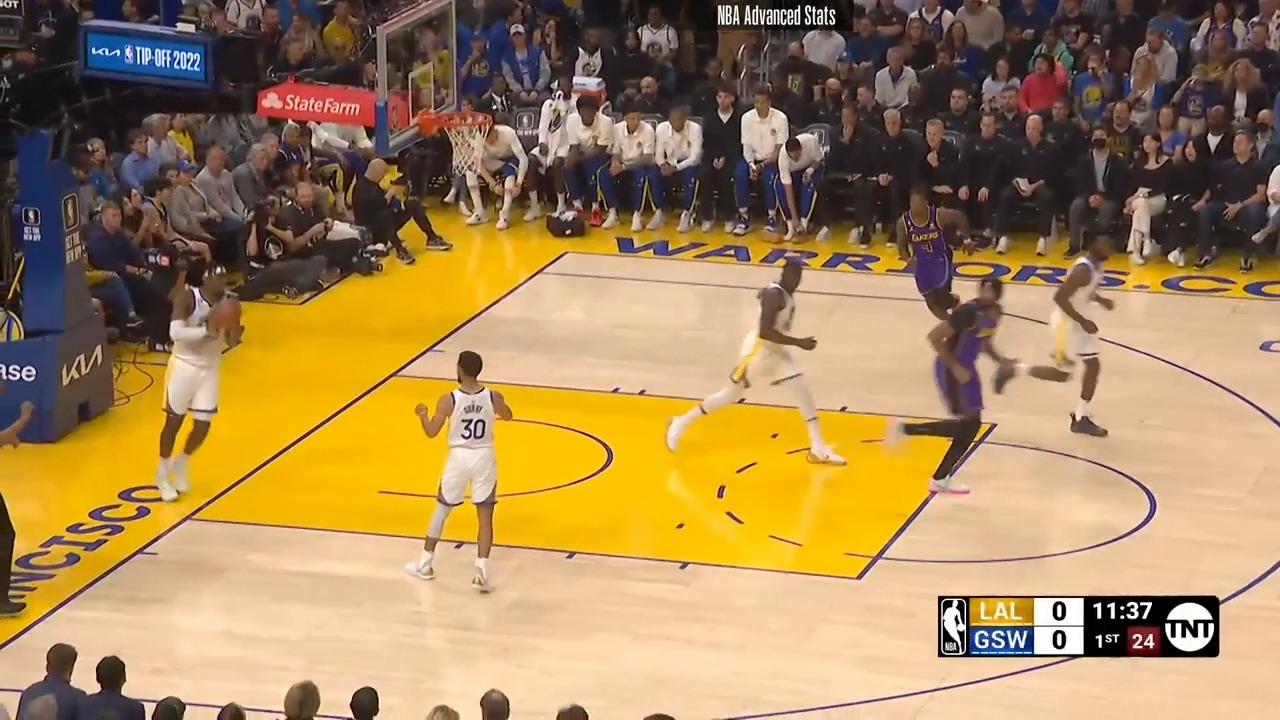net: (419, 104, 495, 168)
player: (663, 261, 833, 472), (401, 343, 515, 592), (904, 277, 1021, 504), (150, 262, 252, 514), (1012, 228, 1131, 442), (888, 186, 968, 327)
referee: (0, 365, 30, 617)
